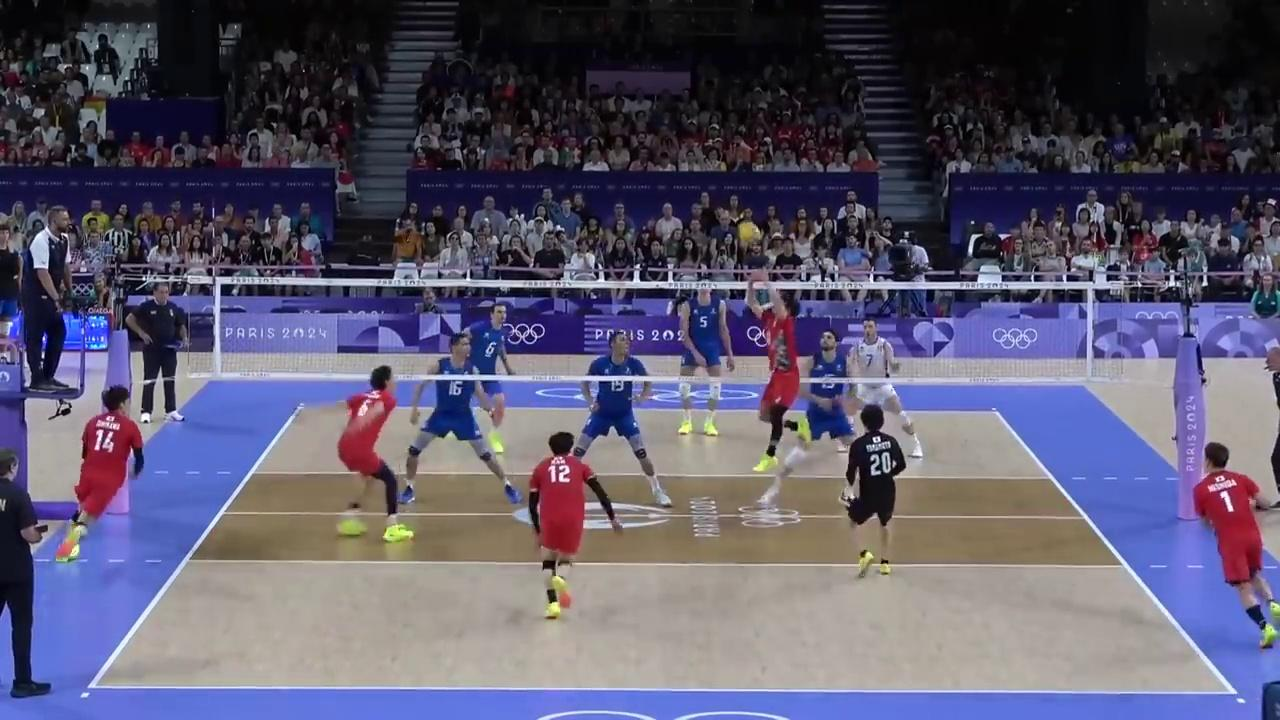ball: (737, 223, 762, 243)
